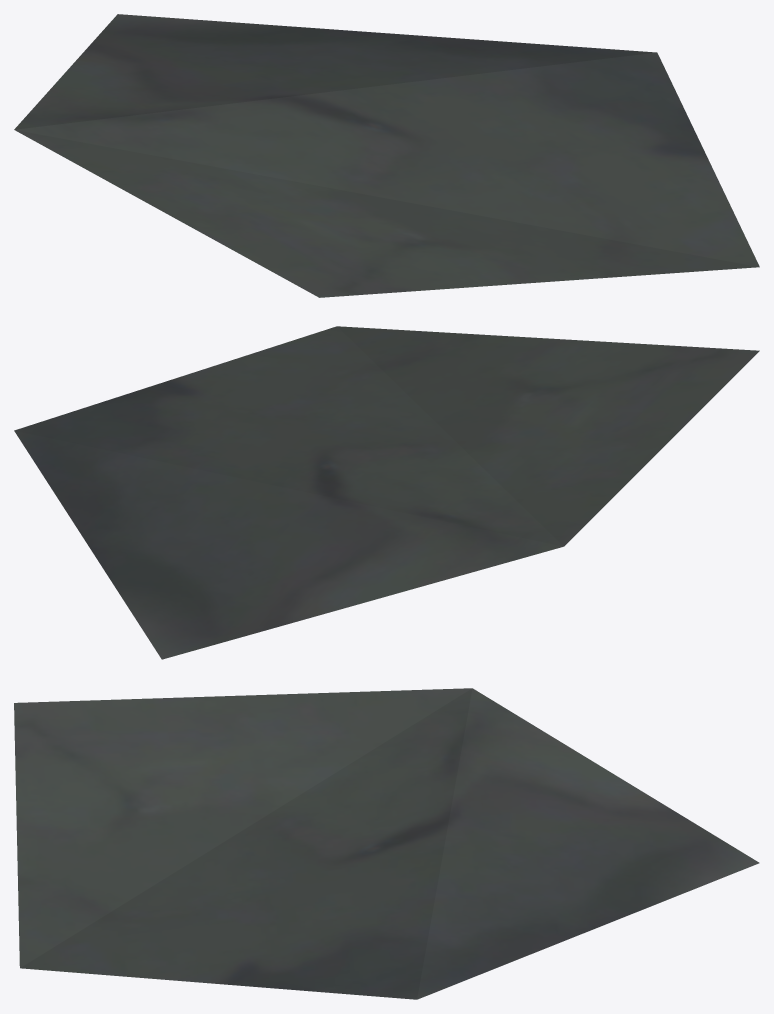
Rendered from Ridge_1_1_Top.gltf.
3 renders of one model, top to bottom at view 1: azimuth 30°, elevation 25°; view 2: azimuth 150°, elevation 25°; view 3: azimuth 270°, elevation 25°, orthographic. The views are drawn at different scales.
Parts seen in each view (by area): view 1: Ridge_1_1_Top; view 2: Ridge_1_1_Top; view 3: Ridge_1_1_Top.
Boxes of the visible parts, left/top/right/bottom form: Ridge_1_1_Top: left=14, top=14, right=759, bottom=297; Ridge_1_1_Top: left=14, top=326, right=759, bottom=659; Ridge_1_1_Top: left=14, top=688, right=759, bottom=999.
Size of the model in its own units: 7.82 by 0.9765 by 9.22.
1 material, 1 textured.
